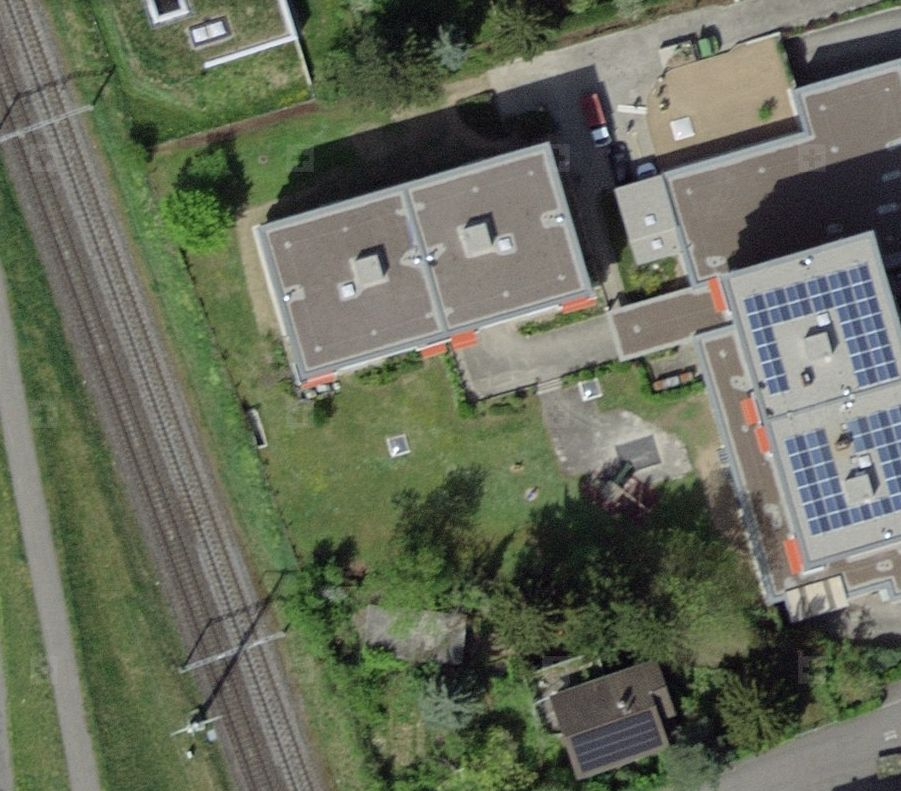solar: (741, 262, 901, 538), (564, 705, 673, 777)
